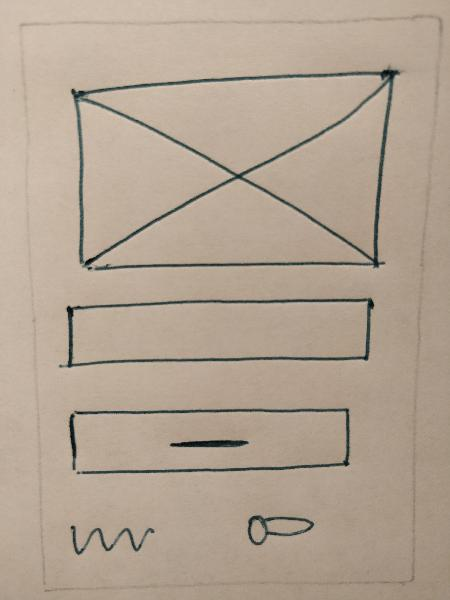button: (60, 401, 359, 485)
image: (62, 65, 398, 278)
switch: (237, 502, 318, 550)
text: (56, 512, 164, 568)
text_input: (54, 295, 378, 370)
